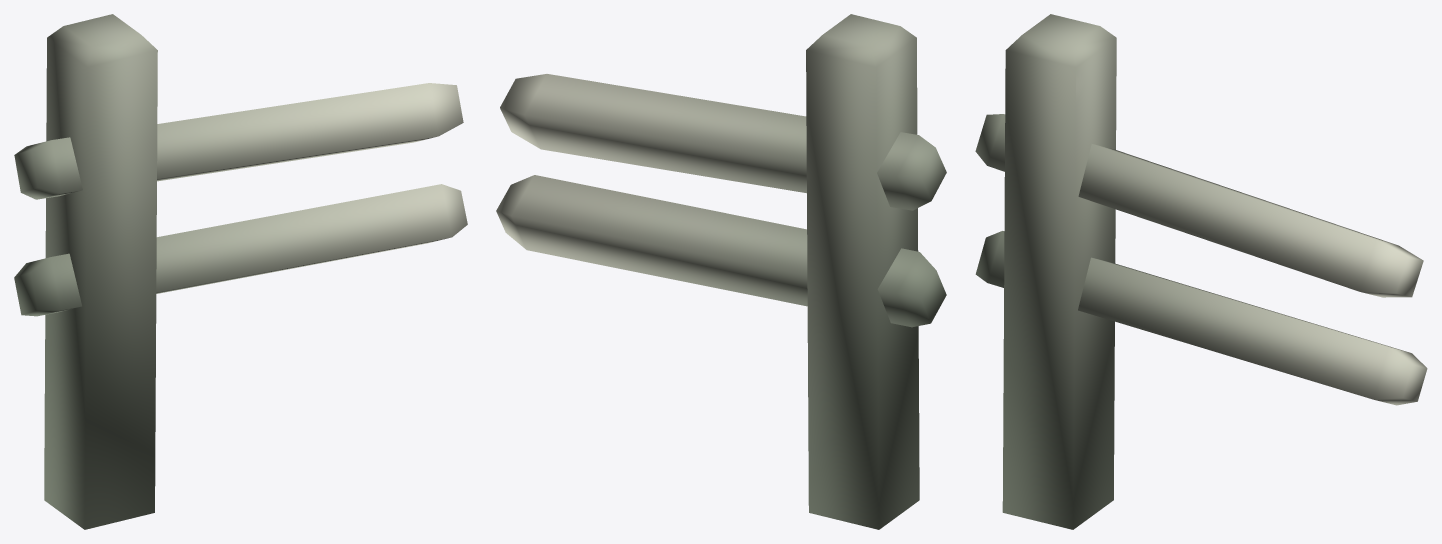
Rendered from fencetype3.glb.
3 renders of one model, left to right at view 1: azimuth 30°, elevation 25°; view 2: azimuth 150°, elevation 25°; view 3: azimuth 330°, elevation 25°, orthographic.
Parts seen in each view (by area): view 1: Fence03; view 2: Fence03; view 3: Fence03.
Boxes of the visible parts, <box> form: Fence03: <box>14,14,467,529</box>; Fence03: <box>496,14,946,529</box>; Fence03: <box>975,14,1427,529</box>.
Bounding box in the file's own units: 1.35 × 1.42 × 0.2207.
Materials: 1 (1 with a texture image).
